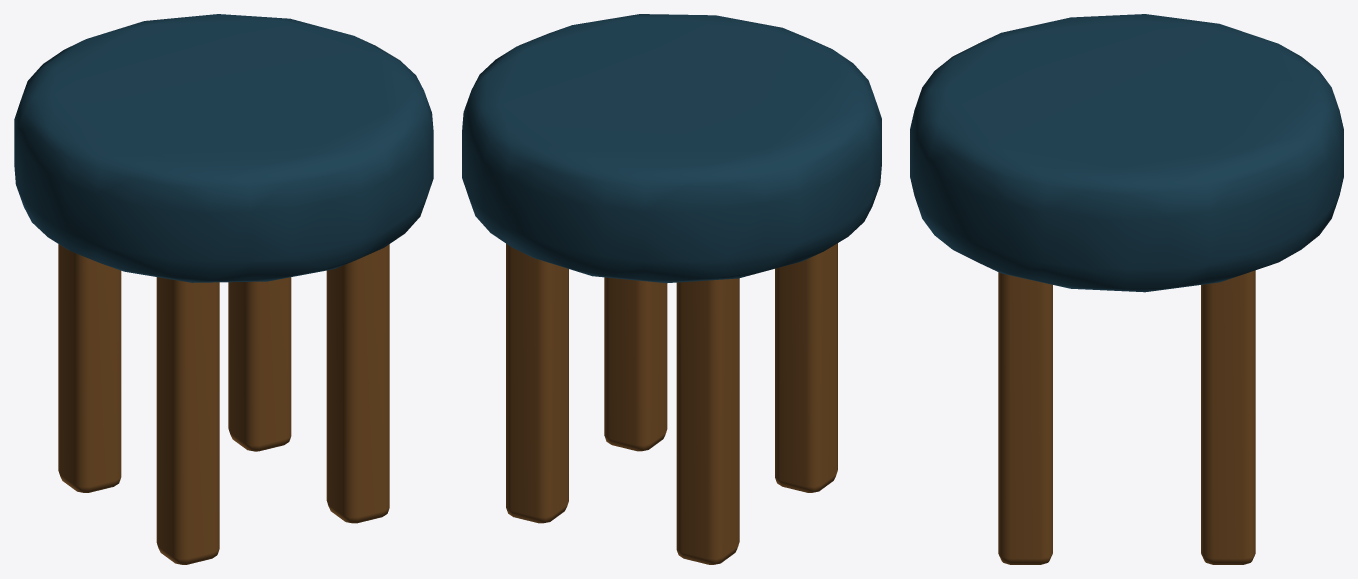
The model's file is stool_07_blue.fbx.
The picture shows the model from 3 angles, left to right: view 1: azimuth 30°, elevation 25°; view 2: azimuth 150°, elevation 25°; view 3: azimuth 270°, elevation 25°; orthographic projection. The views are drawn at different scales.
Parts seen in each view (by area): view 1: stool_07_blue; view 2: stool_07_blue; view 3: stool_07_blue.
Part boxes in pixels (box(x1,y1,x2,y2)): stool_07_blue: box(14, 14, 433, 564); stool_07_blue: box(462, 14, 881, 564); stool_07_blue: box(910, 14, 1343, 564).
Size of the model in its own units: 41.86 by 45 by 41.86.
1 material, 1 textured.
